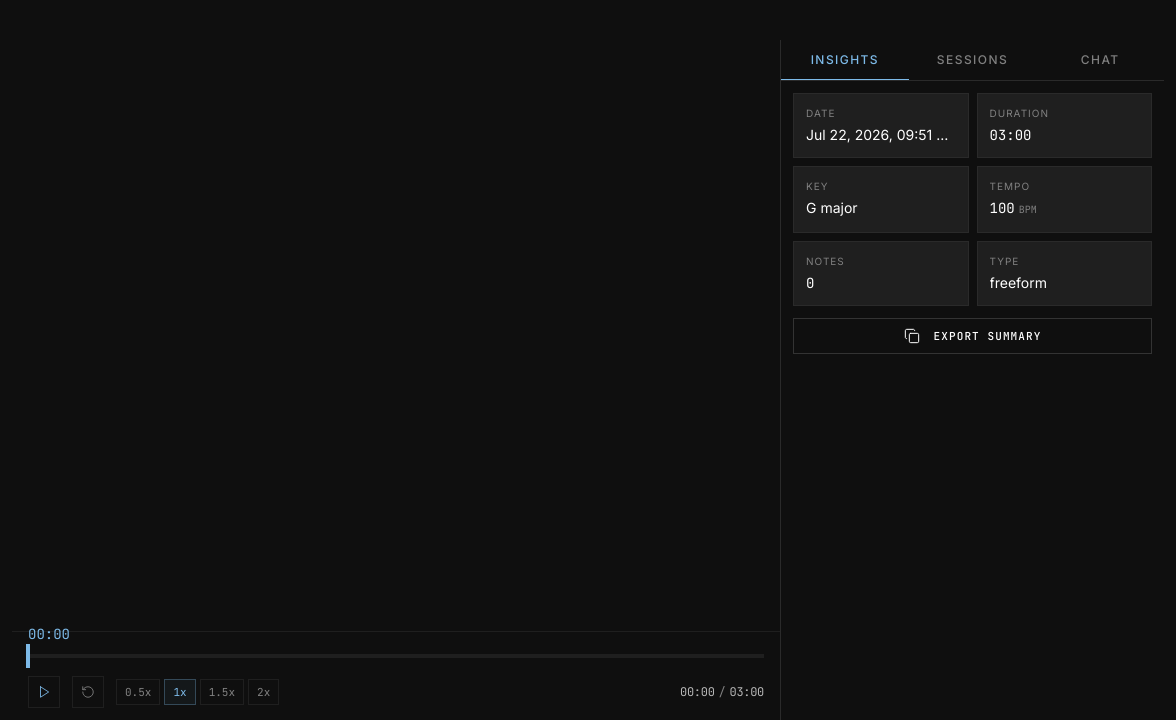
ReplayStudio › tabs › switches to Sessions tab on click
Click the tab "Sessions": x=973, y=60 [909,40,1036,80]
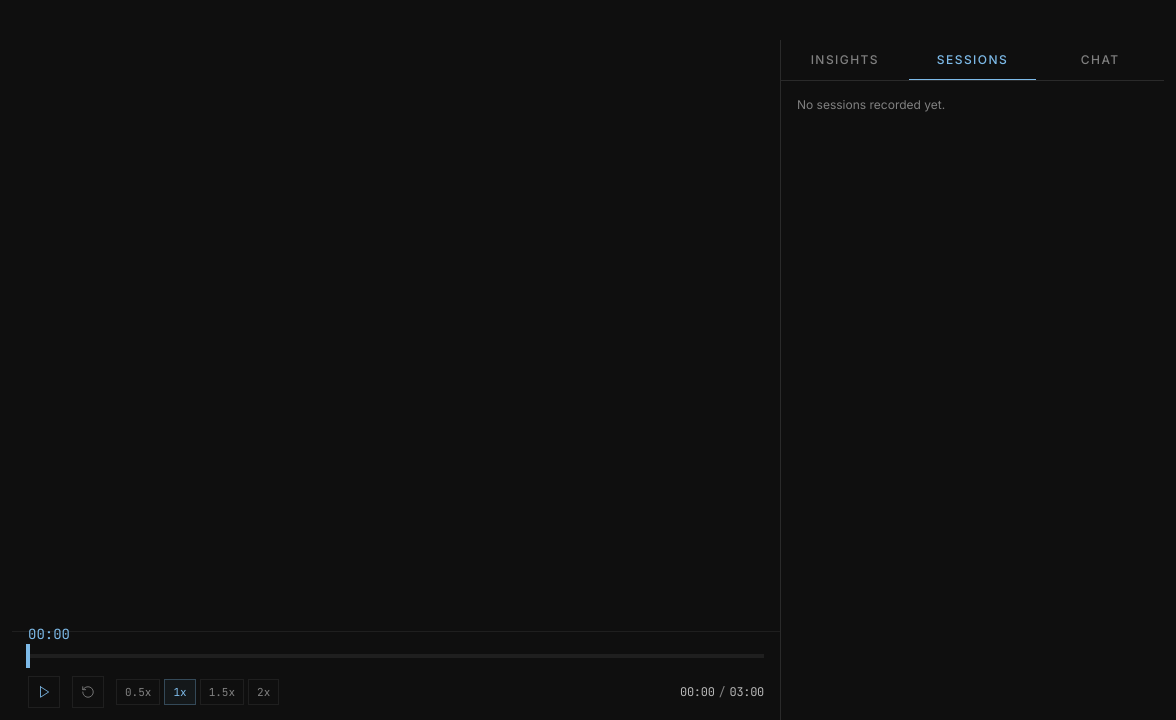
Result: the panel "No sessions recorded yet." is shown at [797,97,945,112]
